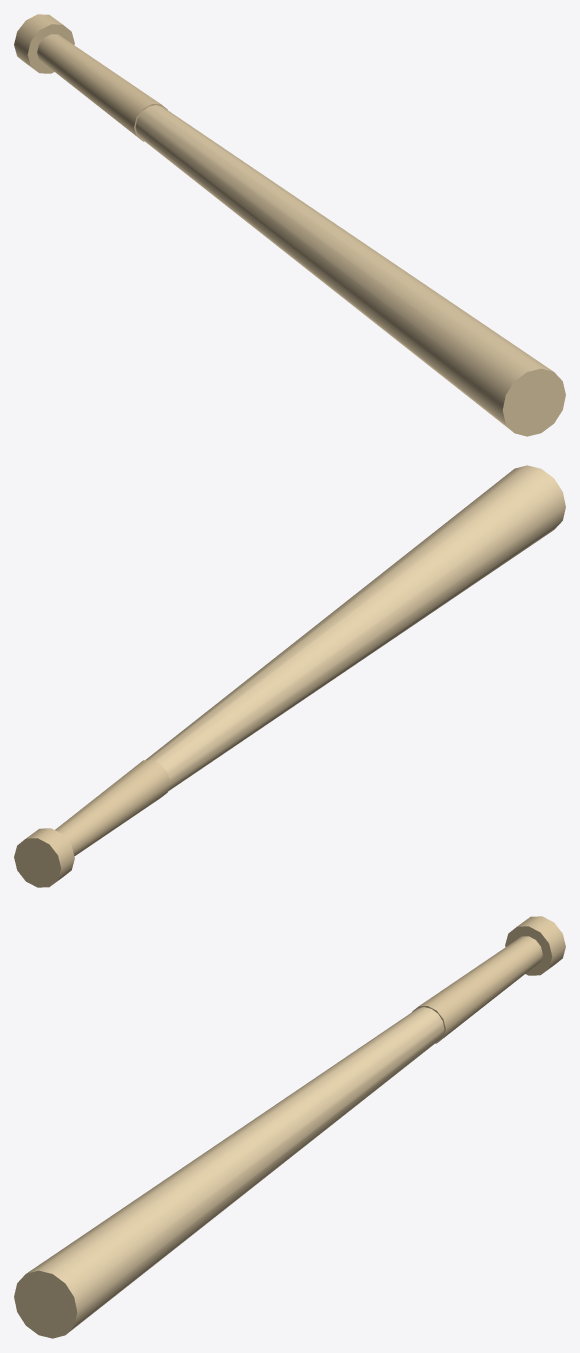
The model's file is baseball-bat.gltf.
3 views of the same model, one above another, from view 1: azimuth 30°, elevation 25°; view 2: azimuth 150°, elevation 25°; view 3: azimuth 330°, elevation 25° (orthographic).
Parts seen in each view (by area): view 1: Bat, Grip, Knob; view 2: Bat, Grip, Knob; view 3: Bat, Grip, Knob.
Part boxes in pixels (x1,y1,x2,y2): Bat: [135, 105, 565, 436]; Grip: [37, 34, 167, 141]; Knob: [14, 14, 74, 73]; Bat: [145, 465, 565, 790]; Grip: [55, 760, 170, 856]; Knob: [14, 828, 74, 887]; Bat: [14, 1007, 444, 1338]; Grip: [412, 936, 542, 1043]; Knob: [505, 916, 565, 975].
Size of the model in its own units: 0.00419 by 0.00408 by 0.0569.
